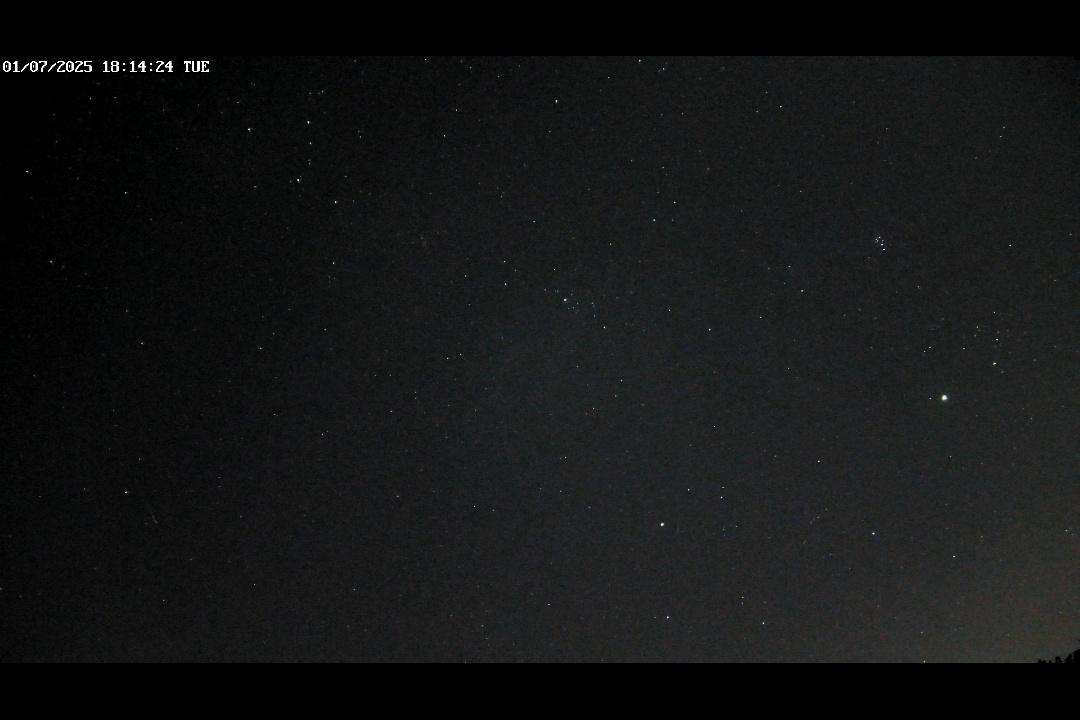Plane: (139, 504, 164, 529)
